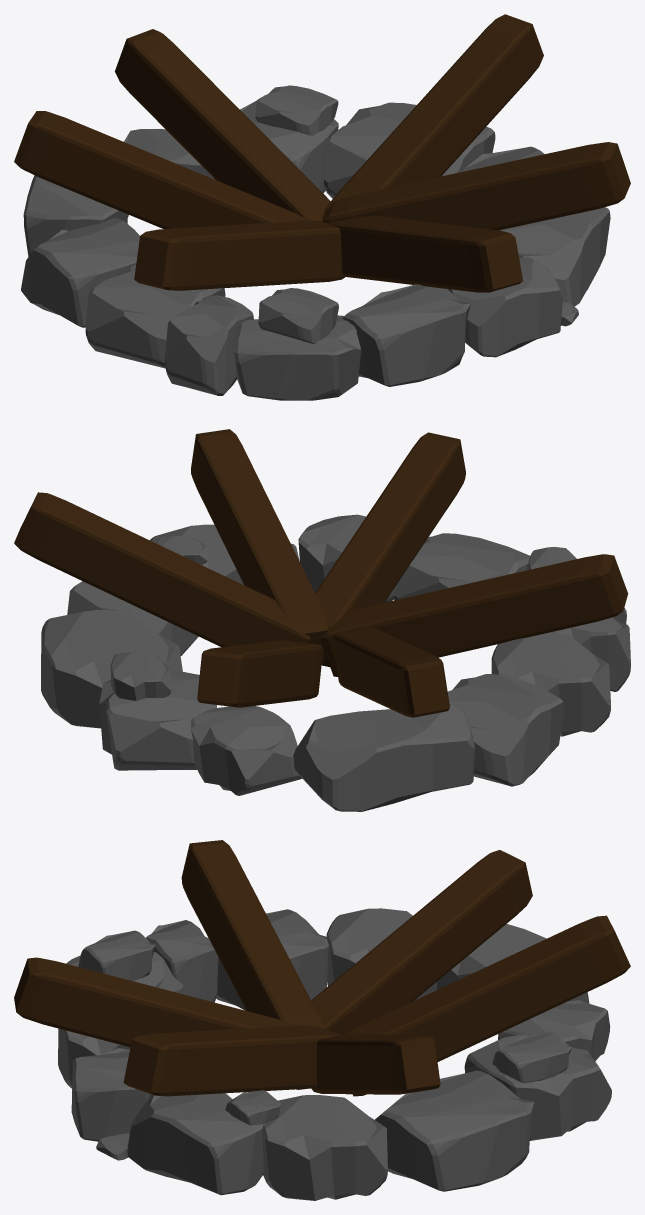
Rendered from Fire pit.fbx.
3 renders of one model, top to bottom at view 1: azimuth 30°, elevation 25°; view 2: azimuth 150°, elevation 25°; view 3: azimuth 270°, elevation 25°, orthographic.
Parts seen in each view (by area): view 1: Wood, Wood.004, Wood.005, Wood.002, Wood.001, Wood.003, Rock.004, Rock.003, Rock.001, Rock.002, Rock.005, Rock.015 (+8 smaller); view 2: Wood.002, Wood.001, Rock, Wood.003, Wood.004, Rock.008, Rock.001, Rock.009, Rock.014, Wood, Wood.005, Rock.002 (+8 smaller); view 3: Wood, Wood.005, Rock.008, Wood.003, Wood.004, Wood.001, Rock.007, Rock.006, Wood.002, Rock.014, Rock.005, Rock.002 (+10 smaller).
Boxes of the visible parts, x1,y1,x2,y2 form: Wood: [14, 111, 309, 228]; Wood.004: [322, 142, 630, 230]; Wood.005: [115, 29, 330, 221]; Wood.002: [322, 14, 543, 217]; Wood.001: [134, 220, 345, 290]; Wood.003: [328, 215, 522, 292]; Rock.004: [342, 284, 470, 386]; Rock.003: [234, 315, 361, 400]; Rock.001: [21, 217, 139, 327]; Rock.002: [85, 264, 225, 368]; Rock.005: [448, 257, 562, 357]; Rock.015: [164, 295, 253, 395]; Wood.002: [14, 492, 310, 647]; Wood.001: [319, 554, 628, 676]; Rock: [293, 704, 475, 811]; Wood.003: [315, 432, 465, 666]; Wood.004: [191, 429, 328, 663]; Rock.008: [41, 609, 182, 728]; Rock.001: [447, 674, 564, 786]; Rock.009: [190, 706, 302, 795]; Rock.014: [99, 671, 216, 770]; Wood: [332, 628, 449, 717]; Wood.005: [197, 640, 323, 707]; Rock.002: [491, 632, 610, 736]; Wood: [311, 850, 532, 1034]; Wood.005: [344, 915, 630, 1096]; Rock.008: [375, 1070, 534, 1191]; Wood.003: [14, 957, 304, 1089]; Wood.004: [123, 1025, 340, 1096]; Wood.001: [181, 840, 324, 1028]; Rock.007: [262, 1095, 387, 1200]; Rock.006: [127, 1093, 264, 1195]; Wood.002: [312, 1034, 440, 1094]; Rock.014: [464, 1034, 611, 1140]; Rock.005: [71, 1048, 151, 1141]; Rock.002: [216, 909, 328, 1010].
Bounding box in the file's own units: 108 × 33.4 × 110.
